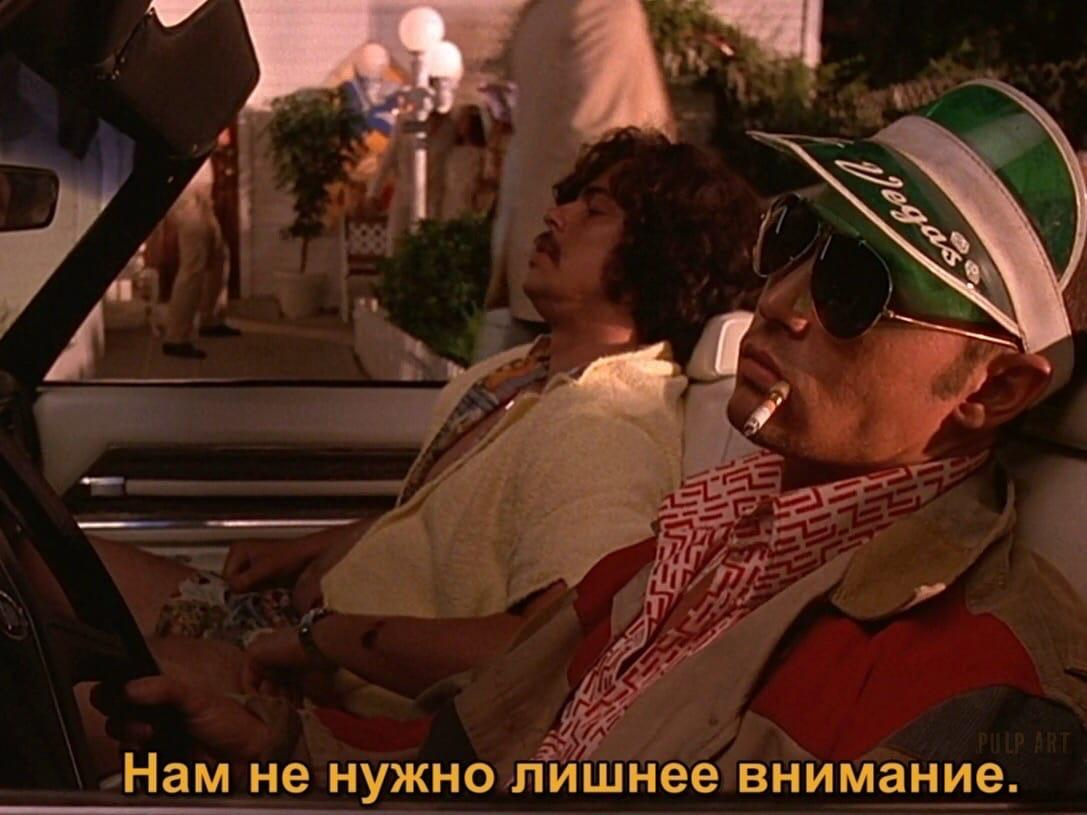cigarette: (744, 391, 784, 437)
